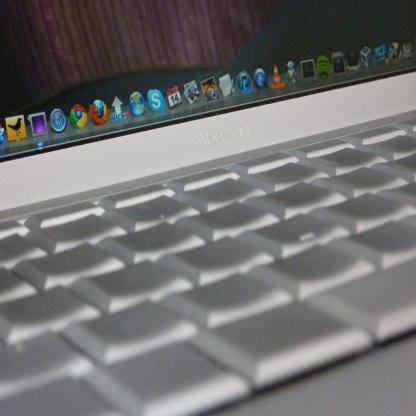board: (0, 0, 416, 400)
